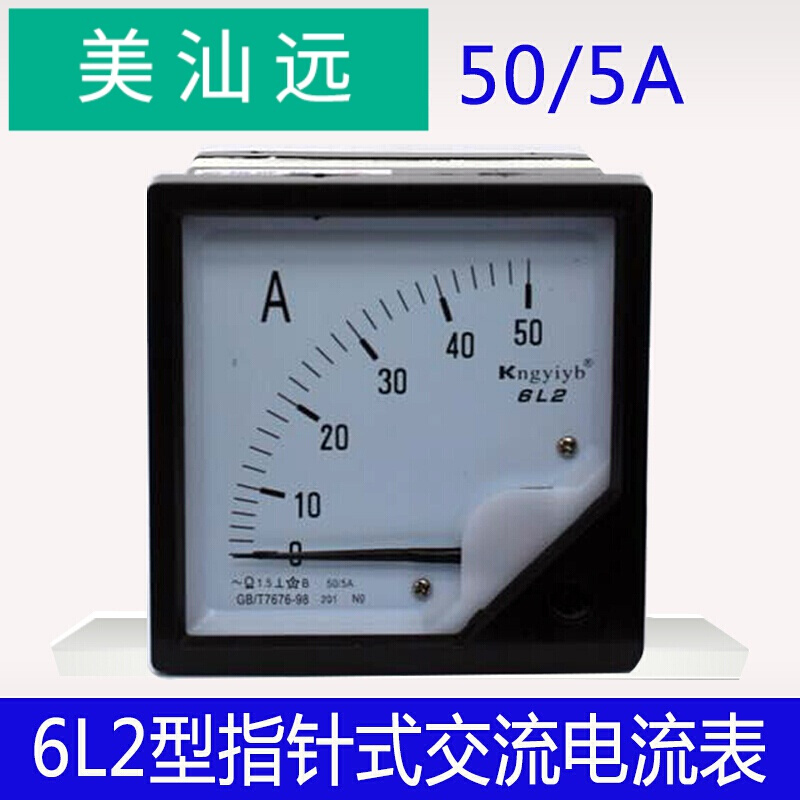pointer: (177, 214, 614, 636)
